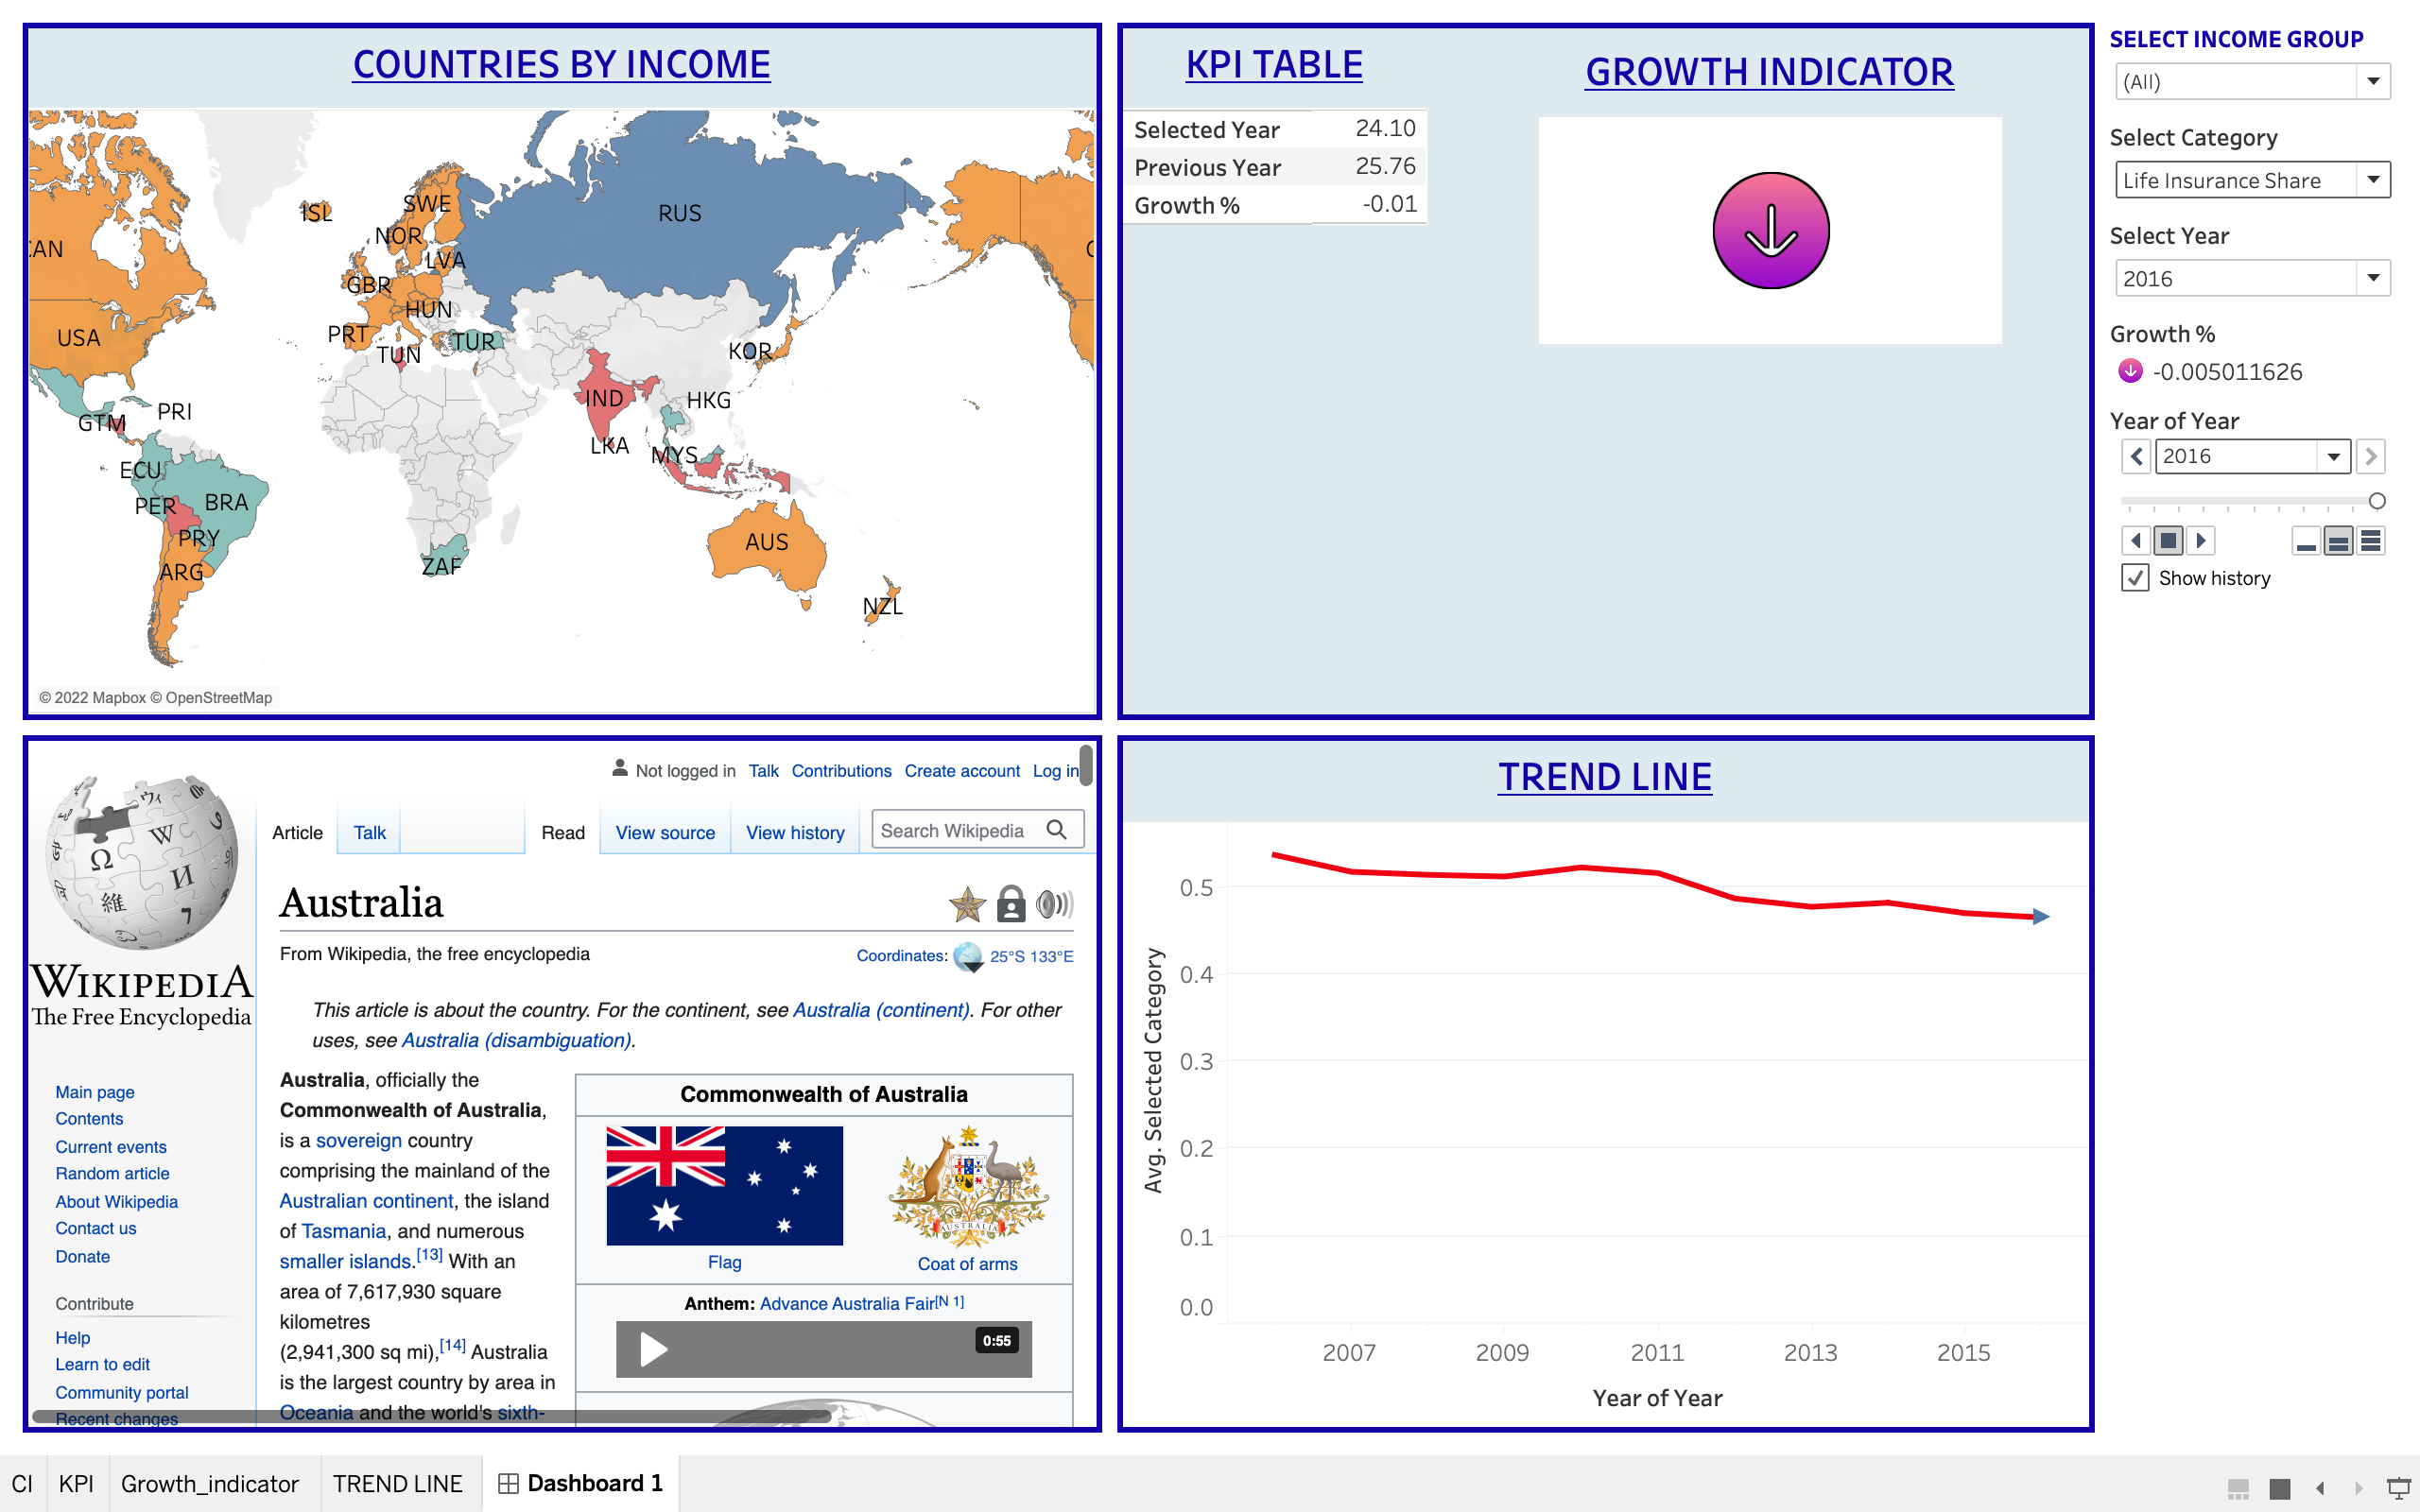

This screenshot's page, from the dashboard's own definition file:
{"tool":"tableau","page":{"name":"Dashboard 1","canvas":[1000,1000],"units":"permille","ordinal":0},"visuals":[{"type":"worksheet","title":"CI","mark":"Multipolygon","box":[7.5,13.4,437.8,486.6]},{"type":"worksheet","title":"KPI","mark":"Automatic","box":[445.2,13.4,397.6,486.6]},{"type":"filter","title":"CI","param":"[federated.1fipu211le5kca1h7y9bp1ckrg3c].[none:income:nk]","box":[842.9,13.4,149.7,87.2]},{"type":"worksheet","title":"Growth_indicator","mark":"Shape","box":[703.5,25.2,124.4,347.3]},{"type":"parameter","param":"[Parameters].[Parameter 1]","box":[842.9,100.7,149.7,87.2]},{"type":"parameter","param":"[Parameters].[Parameter 2]","box":[842.9,187.9,149.7,87.2]},{"type":"legend","title":"Growth_indicator","param":"[federated.1lisj040h324w918qebh61sk974a].[usr:Calculation_2968012947827757062:ok","box":[842.9,275.2,149.7,77.2]},{"type":"currpage","title":"TREND LINE","box":[842.9,352.4,149.7,184.6]},{"type":"web page","param":"https://en.wikipedia.org/wiki/Australia","box":[7.5,500,437.8,486.6]},{"type":"worksheet","title":"TREND LINE","mark":"Shape","rows":["Calculation_2968012947826745347"],"cols":["Year"],"box":[445.2,500,397.6,486.6]},{"type":"image","box":[842.9,536.9,149.7,181.2]},{"type":"dashboard-object","box":[843.8,587.2,153.4,95.6]},{"type":"image","param":"/Users/Apple/Desktop/download.jpeg","box":[858.8,728.2,125.4,226.5]}]}

Visuals, with their boxes on the dashboard's canvas, which has no fixed pixel size, in thousandths of its width and height (x1, y1, x2, y2). These are canvas units, not pixel positions in the 2420x1512 screenshot, which may show the page scaled, cropped or inside an application window:
"CI" worksheet (Multipolygon marks): x1=8 y1=13 x2=445 y2=500
"KPI" worksheet: x1=445 y1=13 x2=843 y2=500
"CI" filter: x1=843 y1=13 x2=993 y2=101
"Growth_indicator" worksheet (Shape marks): x1=704 y1=25 x2=828 y2=372
parameter: x1=843 y1=101 x2=993 y2=188
parameter: x1=843 y1=188 x2=993 y2=275
"Growth_indicator" legend: x1=843 y1=275 x2=993 y2=352
"TREND LINE" currpage: x1=843 y1=352 x2=993 y2=537
web page: x1=8 y1=500 x2=445 y2=987
"TREND LINE" worksheet (Shape marks): x1=445 y1=500 x2=843 y2=987
image: x1=843 y1=537 x2=993 y2=718
dashboard-object: x1=844 y1=587 x2=997 y2=683
image: x1=859 y1=728 x2=984 y2=955
